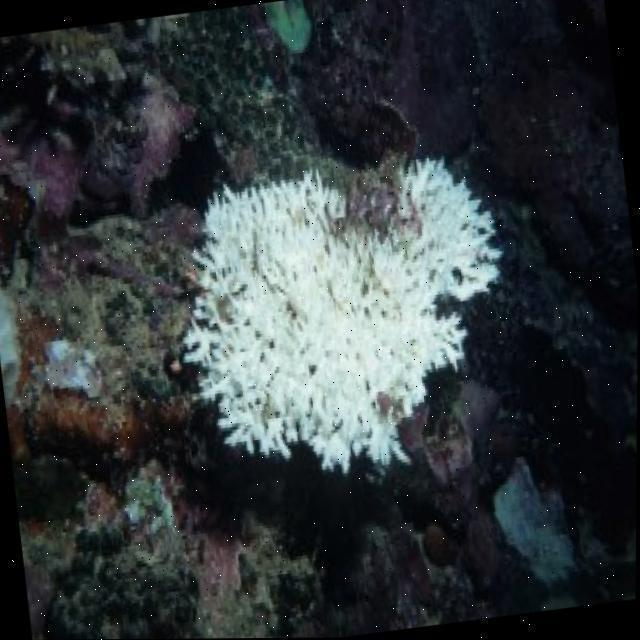Bleached Coral: (165, 125, 528, 506)
